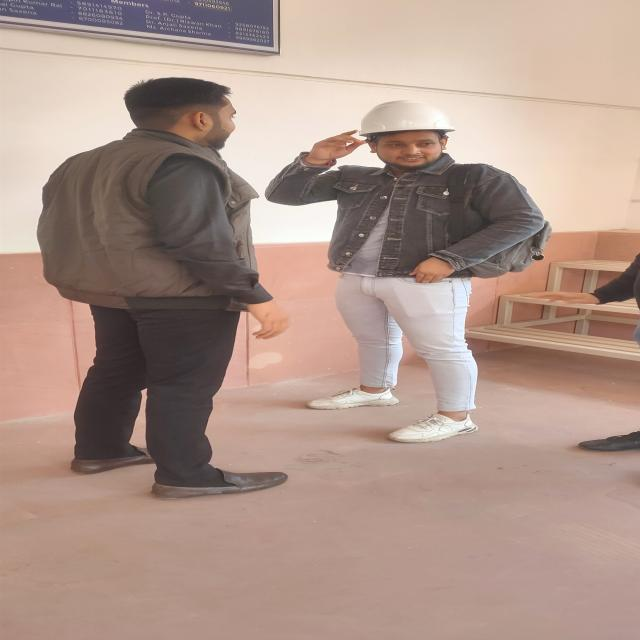no jacket: (263, 100, 545, 445)
unsafe: (40, 78, 291, 498)
